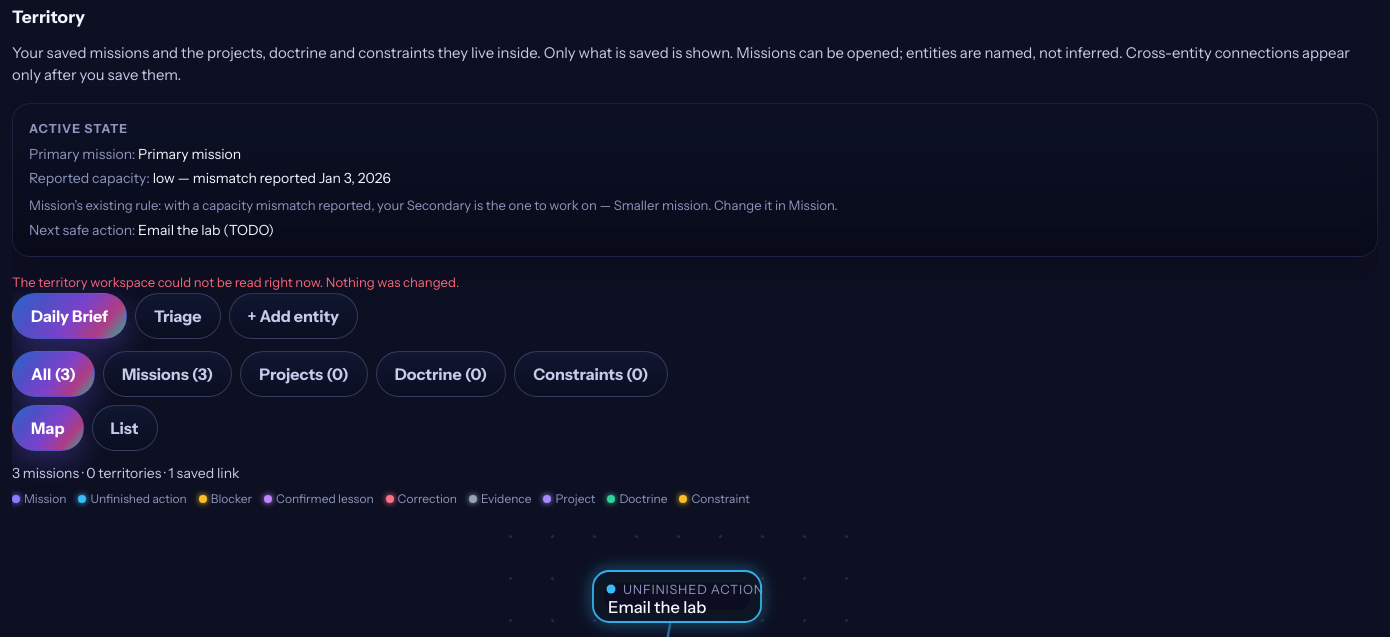
TerritoryTab › groups missions with their real state, and builds Active State from saved data
Expected: the text "Reported capacity: low — mismatch reported Jan 3, 2026" is shown, left=29, top=169, right=391, bottom=187
Click the button "List" at (125, 428), box left=92, top=405, right=158, bottom=451
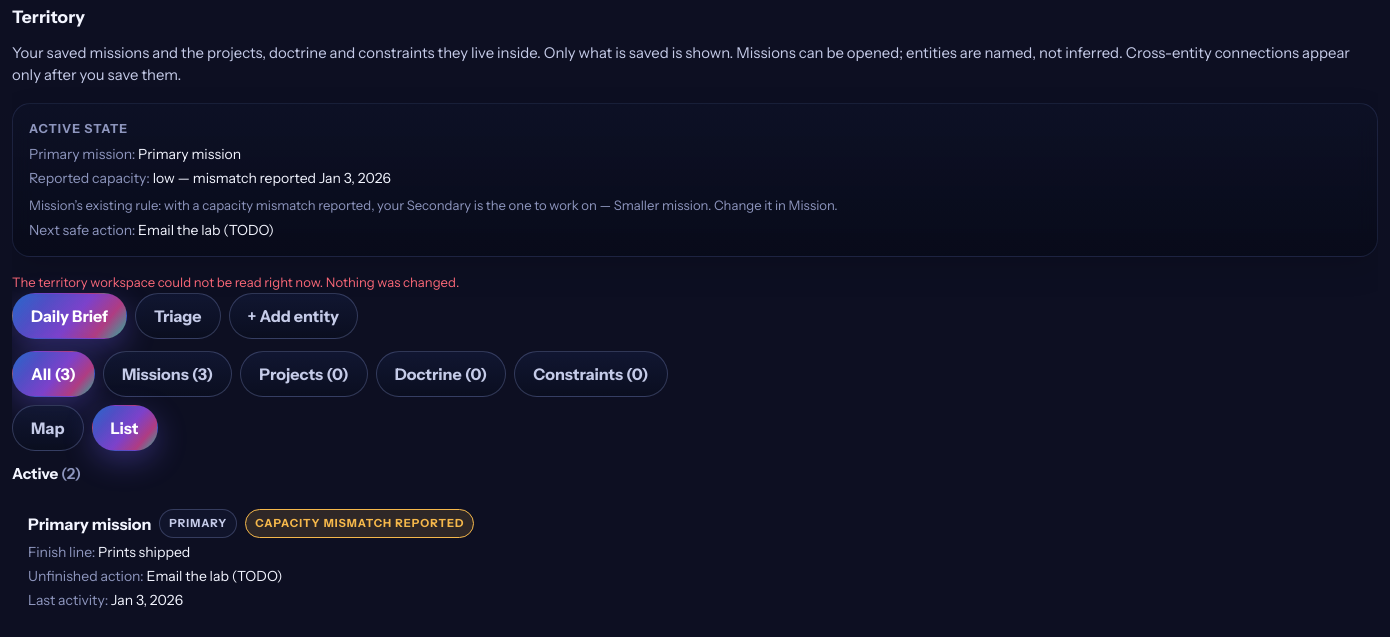
Expected: the text "your Secondary is the one to work on" shows "Smaller mission", left=614, top=197, right=708, bottom=213
Result: the heading "Active (2)" is shown at left=12, top=464, right=81, bottom=483
Result: the text "Email the lab (TODO)" is shown 2 times at left=29, top=221, right=274, bottom=239; left=28, top=567, right=282, bottom=585
